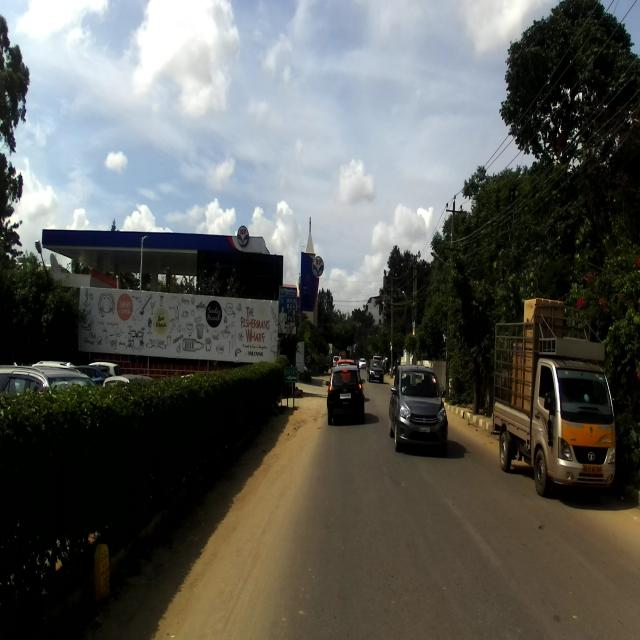car: (390, 364, 452, 458), (327, 361, 365, 426)
truck: (490, 298, 616, 501)
